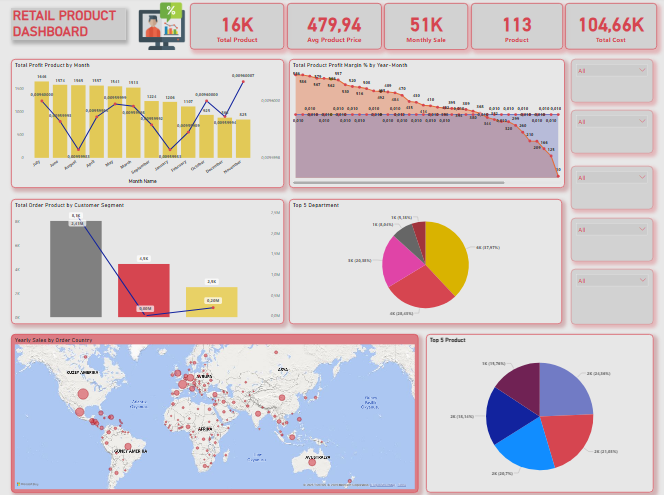

What the dashboard file says about the page in this screenshot:
{"tool":"powerbi","page":{"name":"Product","canvas":[1930,1450],"ordinal":3},"visuals":[{"type":"textbox","title":"RETAIL PRODUCT DASHBOARD","box":[37,33.3,333.3,92.6],"z":0},{"type":"card","fields":{"Values":["Canceled Orders.Total Product"]},"box":[556.9,17.6,272.5,135.3],"z":1000},{"type":"card","fields":{"Values":["Canceled Orders.Avg Product Price"]},"box":[837.3,17.6,274.5,135.3],"z":2000},{"type":"card","fields":{"Values":["Canceled Orders.Monthly Sale"]},"box":[1120,18,244,136],"z":3000},{"type":"card","fields":{"Values":["Count(income_2024.product_name)"]},"box":[1370.6,17.6,266.7,135.3],"z":4000},{"type":"slicer","fields":{"Values":["income_2024.category_name"]},"box":[1661.5,328.2,238.5,125.6],"z":5000},{"type":"slicer","fields":{"Values":["income_2024.order_country"]},"box":[1661.5,489.7,238.5,125.6],"z":6000},{"type":"slicer","fields":{"Values":["income_2024.customer_segment"]},"box":[1661.5,641,238.5,125.6],"z":7000},{"type":"slicer","fields":{"Values":["Calendar.Year"]},"box":[1661.5,179.5,238.5,125.6],"z":8000},{"type":"slicer","fields":{"Values":["income_2024.order_region"]},"box":[1660.5,789.5,239.5,160.5],"z":9000},{"type":"lineClusteredColumnComboChart","title":"Total Profit Product by Month ","fields":{"Category":["Calendar.Month Name"],"Y":["_measures.Total Product"],"Y2":["_measures.Profit Margin %"]},"box":[36.8,178.9,792.1,373.7],"z":10000},{"type":"lineClusteredColumnComboChart","title":"Total Order Product by Customer Segment","fields":{"Category":["income_2024.customer_segment"],"Y":["_measures.Total Product"],"Y2":["_measures.Net Revenue"]},"box":[36.8,586.8,792.1,363.2],"z":11000},{"type":"areaChart","title":"Total Product Profit Margin % by Year-Month","fields":{"Category":["Calendar.Year-Month"],"Y":["_measures.Total Product"],"Y2":["_measures.Profit Margin %"]},"box":[844.7,178.9,800,373.7],"z":12000},{"type":"map","title":"Yearly Sales by Order Country","fields":{"Category":["income_2024.order_country"],"Size":["_measures.Total Product"]},"box":[36.8,976.3,1181.6,460.5],"z":13000},{"type":"card","fields":{"Values":["Canceled Orders.Total Cost"]},"box":[1645.1,17.6,266.7,135.3],"z":14000},{"type":"pieChart","title":"Top 5 Department","fields":{"Category":["income_2024.department_name"],"Y":["_measures.Total Product"]},"box":[844.7,586.8,792.1,363.2],"z":15000},{"type":"pieChart","title":"Top 5 Product","fields":{"Y":["_measures.Total Product"],"Category":["income_2024.product_name"]},"box":[1240.5,976.2,659.5,459.5],"z":16000},{"type":"image","box":[325.9,7.4,300,151.9],"z":17000}]}

Visuals, with their boxes in screenshot pixels (x1, y1, x2, y2), scaled from the page's 1930x1450 canvas onto the 664x495 screenshot:
"RETAIL PRODUCT DASHBOARD" textbox: box(13, 11, 127, 43)
card - Canceled Orders.Total Product: box(192, 6, 285, 52)
card - Canceled Orders.Avg Product Price: box(288, 6, 383, 52)
card - Canceled Orders.Monthly Sale: box(385, 6, 469, 53)
card - Count(income_2024.product_name): box(472, 6, 563, 52)
slicer - income_2024.category_name: box(572, 112, 654, 155)
slicer - income_2024.order_country: box(572, 167, 654, 210)
slicer - income_2024.customer_segment: box(572, 219, 654, 262)
slicer - Calendar.Year: box(572, 61, 654, 104)
slicer - income_2024.order_region: box(571, 270, 654, 324)
"Total Profit Product by Month " lineClusteredColumnComboChart: box(13, 61, 285, 189)
"Total Order Product by Customer Segment" lineClusteredColumnComboChart: box(13, 200, 285, 324)
"Total Product Profit Margin % by Year-Month" areaChart: box(291, 61, 566, 189)
"Yearly Sales by Order Country" map: box(13, 333, 419, 490)
card - Canceled Orders.Total Cost: box(566, 6, 658, 52)
"Top 5 Department" pieChart: box(291, 200, 563, 324)
"Top 5 Product" pieChart: box(427, 333, 654, 490)
image: box(112, 3, 215, 54)
